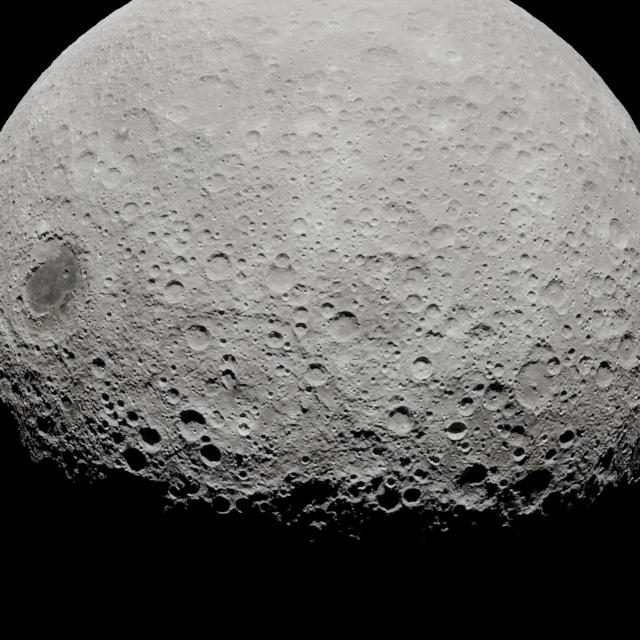crater: (22, 244, 83, 317), (108, 109, 167, 167), (450, 400, 499, 451), (194, 74, 244, 117), (514, 360, 558, 408), (426, 94, 473, 132), (37, 158, 72, 199), (585, 295, 623, 330), (294, 105, 331, 140), (209, 36, 249, 66), (325, 311, 361, 343), (360, 45, 402, 70), (70, 150, 98, 185), (452, 485, 489, 511), (542, 280, 573, 311), (461, 75, 495, 103), (202, 254, 233, 284), (263, 265, 295, 294), (457, 463, 490, 489), (296, 69, 330, 94), (184, 324, 212, 354), (460, 372, 490, 400), (384, 408, 415, 435), (161, 231, 192, 258), (616, 335, 640, 369), (312, 386, 341, 413), (176, 417, 204, 444), (428, 224, 456, 250), (256, 404, 284, 430), (399, 124, 426, 150), (202, 170, 230, 195), (121, 447, 148, 472), (375, 487, 403, 511), (606, 218, 628, 248), (349, 7, 380, 28), (304, 507, 334, 528), (410, 356, 434, 382), (468, 323, 496, 345), (304, 362, 329, 386), (163, 279, 187, 304), (349, 428, 379, 448), (594, 361, 617, 387), (138, 426, 162, 450), (164, 104, 190, 126), (178, 408, 206, 428), (99, 166, 122, 190), (198, 443, 222, 466), (506, 207, 530, 230), (482, 389, 506, 412), (421, 332, 446, 354), (240, 52, 266, 73), (264, 328, 288, 350), (403, 292, 427, 314), (573, 133, 595, 157), (536, 141, 560, 163), (444, 420, 468, 441), (218, 368, 238, 392), (320, 145, 342, 166), (35, 415, 57, 436), (442, 202, 463, 223), (387, 177, 409, 197), (89, 357, 109, 379), (210, 494, 232, 514), (581, 179, 601, 201), (456, 396, 478, 416), (120, 201, 141, 221), (401, 487, 422, 507), (288, 217, 310, 236), (254, 26, 280, 42), (302, 19, 326, 36), (497, 107, 518, 126), (206, 411, 226, 430), (422, 303, 442, 322), (243, 129, 262, 148), (272, 251, 292, 269), (319, 301, 337, 320), (356, 206, 375, 224), (515, 149, 534, 167), (34, 218, 52, 237), (234, 497, 254, 514), (558, 428, 576, 446), (114, 124, 132, 142), (292, 321, 309, 340), (562, 230, 578, 249), (236, 419, 253, 436), (171, 255, 189, 271), (546, 358, 562, 376), (387, 395, 406, 410), (273, 363, 289, 380), (509, 424, 526, 440), (165, 485, 182, 501), (236, 214, 253, 230), (59, 396, 74, 413), (444, 50, 462, 64), (490, 362, 506, 377), (60, 347, 76, 361), (221, 352, 237, 366), (426, 454, 442, 468), (371, 445, 388, 458), (14, 294, 26, 312), (155, 376, 169, 391), (191, 212, 206, 226), (512, 447, 526, 462), (457, 440, 472, 454), (266, 61, 282, 74), (363, 119, 379, 132), (166, 387, 180, 401), (126, 410, 140, 424), (234, 257, 248, 271), (146, 230, 160, 244), (525, 288, 539, 302), (475, 192, 489, 206), (561, 324, 574, 337), (384, 476, 398, 488), (100, 392, 112, 404), (351, 95, 364, 106), (237, 469, 249, 480), (103, 276, 114, 287), (300, 455, 311, 465), (265, 389, 275, 399), (61, 269, 71, 279), (290, 194, 301, 203)
rock: (512, 468, 550, 500), (596, 447, 615, 472), (198, 73, 225, 89)
